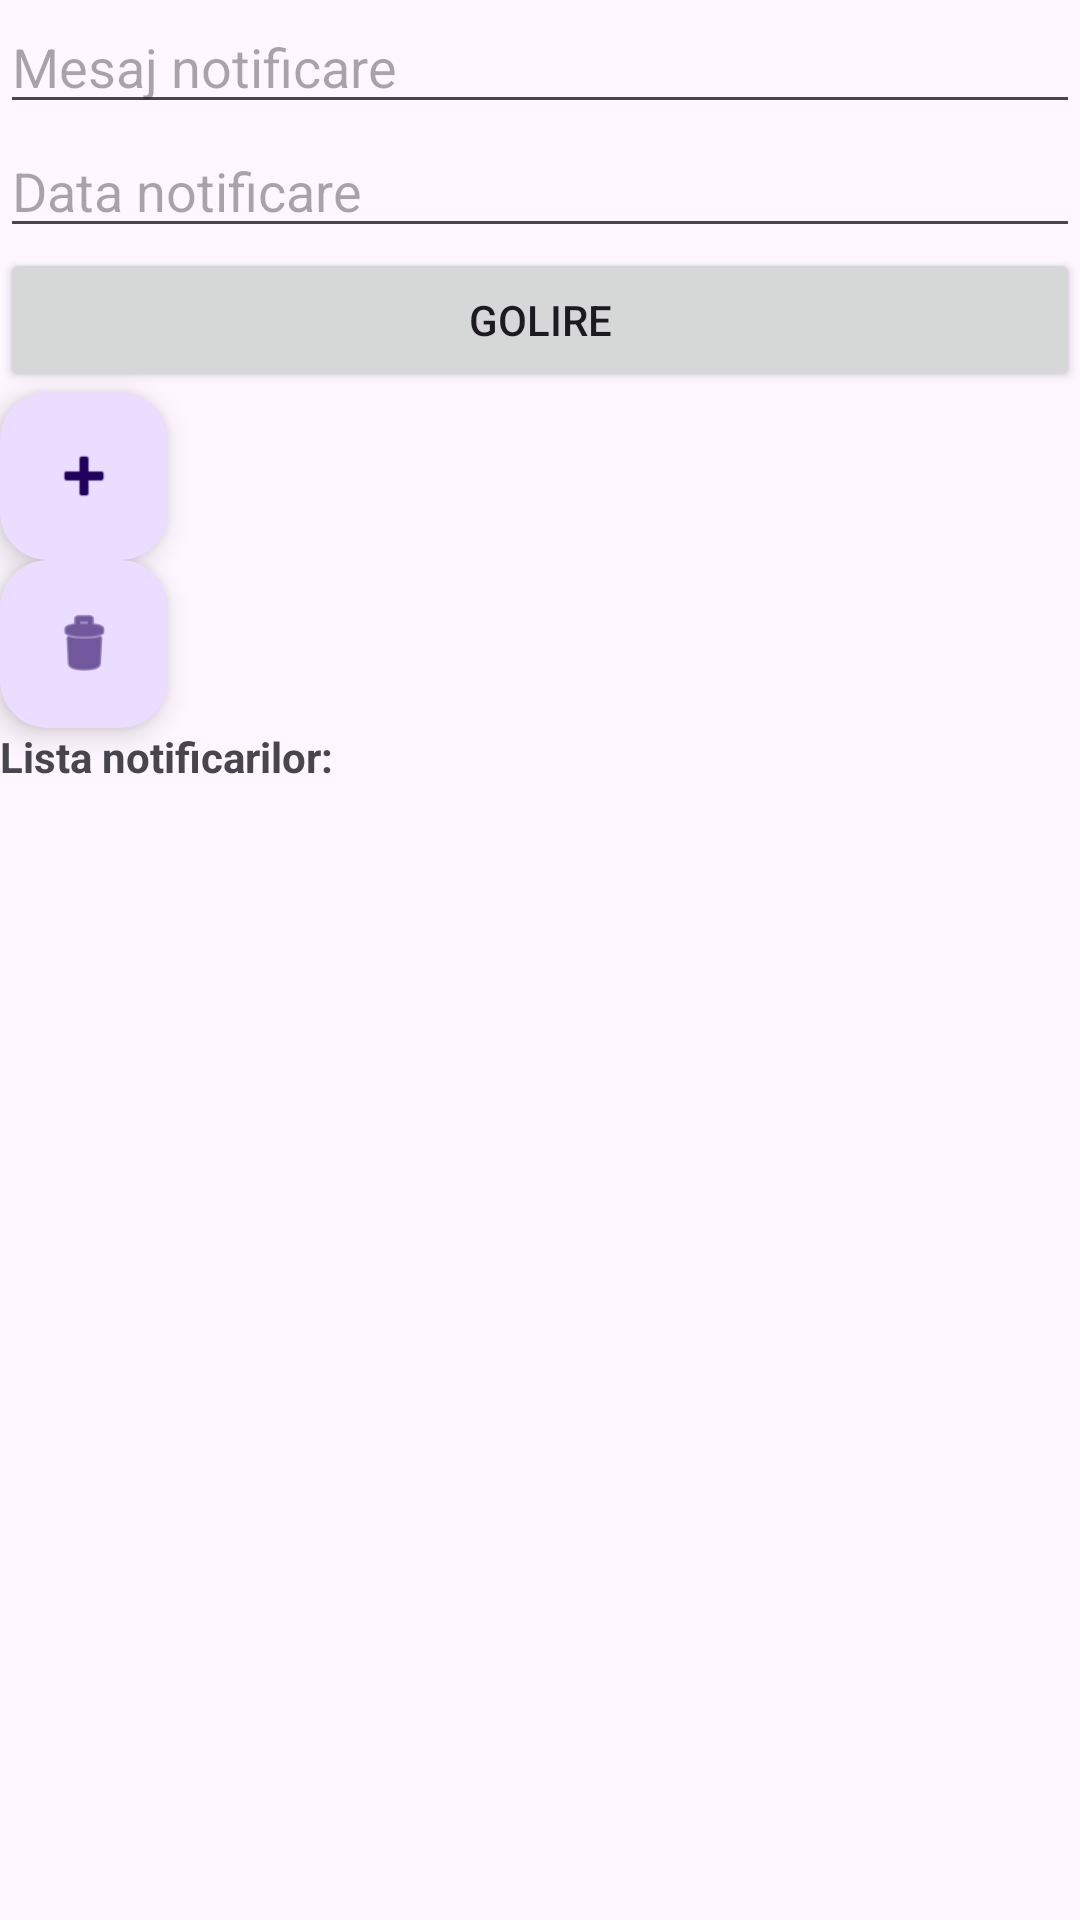

Named icons in this screenshot (1080px x 1920px) and their centers, [x,y]:
add: [84,476]
delete: [84,644]
